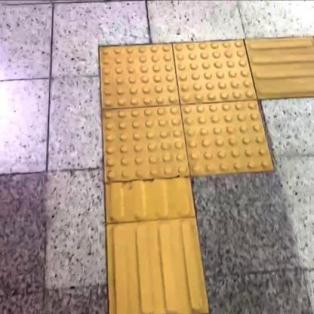Podoctatil: (76, 13, 285, 220), (103, 182, 211, 314)
